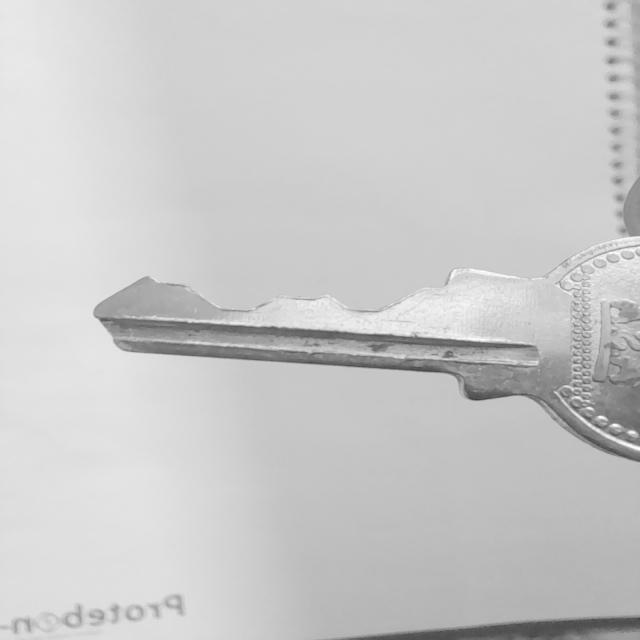KEY: (94, 237, 640, 461)
